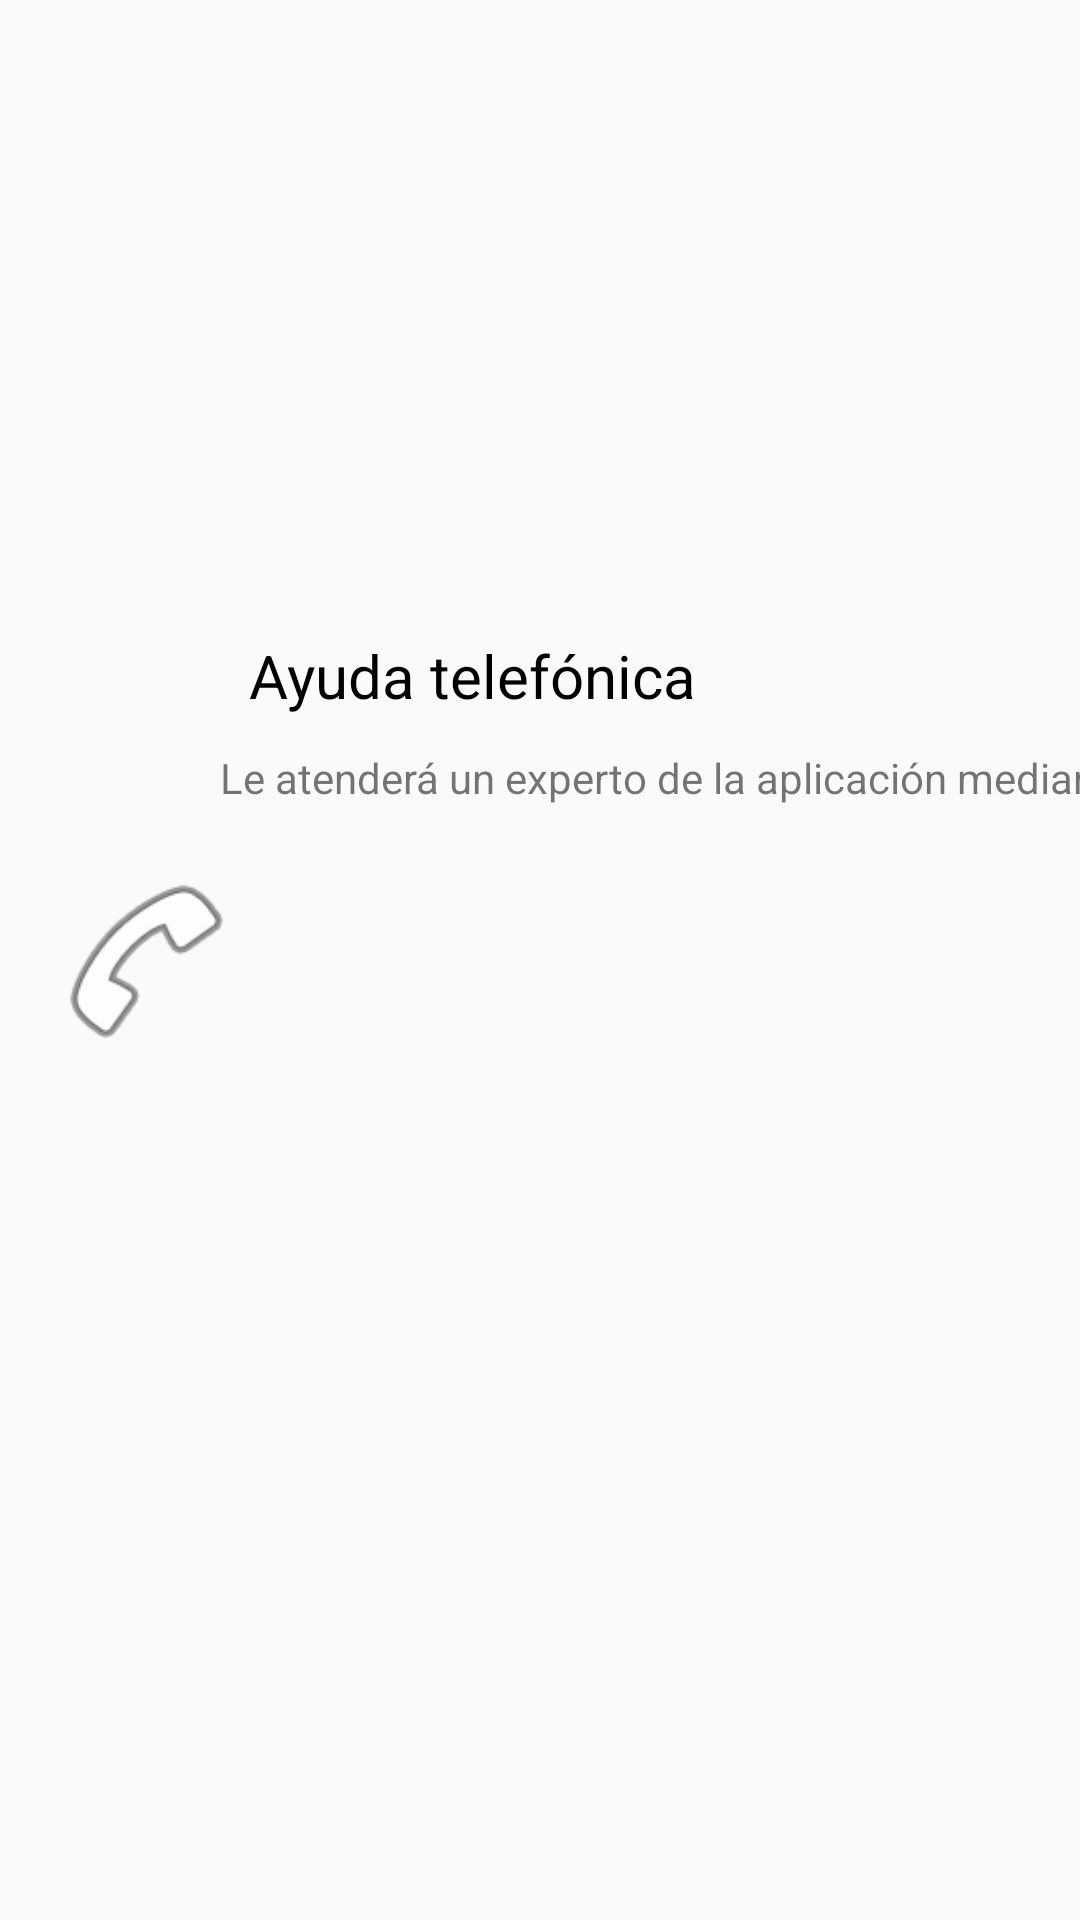

Point at icon controls on the screen. Image size 1080w x 1920h, points as (x=x, y=y).
call: (x=146, y=961)
